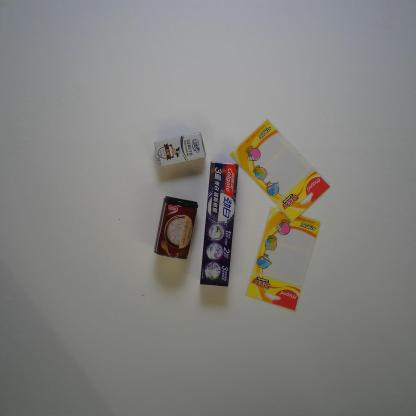Canned Food: (153, 196, 199, 260)
Milk: (154, 131, 206, 168)
Personal Hygiene: (199, 161, 240, 288)
Stationery: (229, 118, 331, 223), (244, 206, 322, 314)
